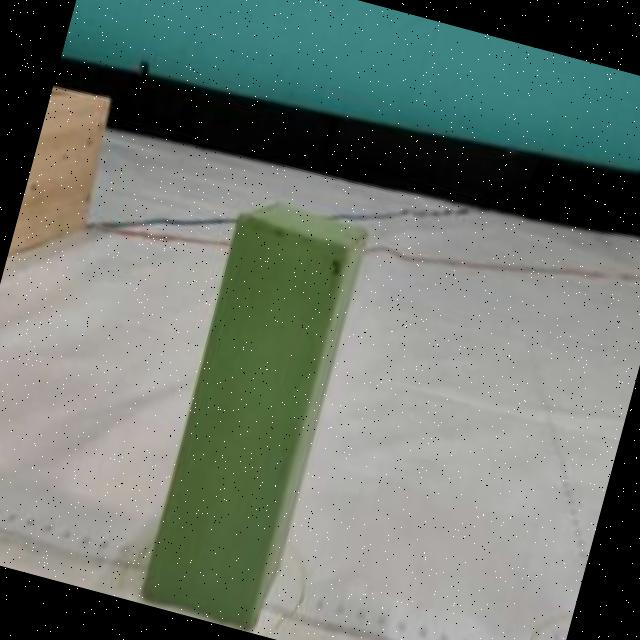greenbox: (129, 188, 375, 632)
